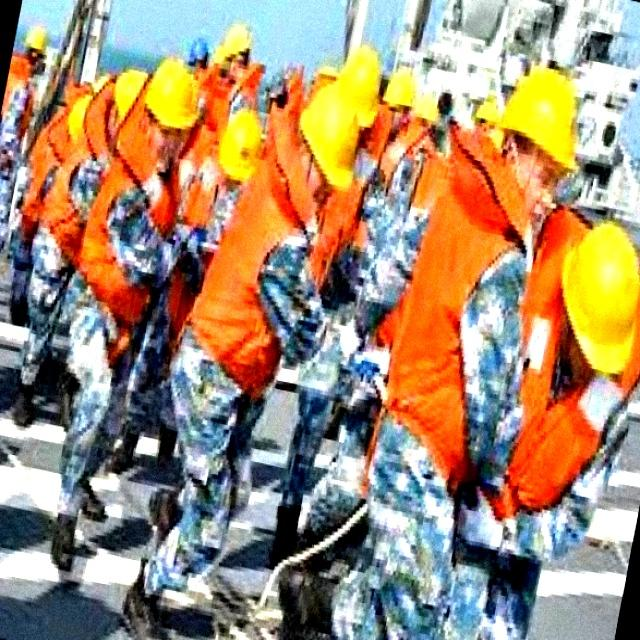Capacete: (562, 222, 639, 374), (500, 66, 576, 170), (299, 83, 358, 189), (145, 58, 198, 129), (336, 44, 381, 127), (218, 109, 261, 182), (114, 69, 147, 121), (383, 67, 415, 107), (67, 94, 93, 143), (224, 23, 252, 56), (413, 93, 439, 123), (474, 98, 500, 125), (24, 26, 47, 55), (91, 74, 109, 93)
